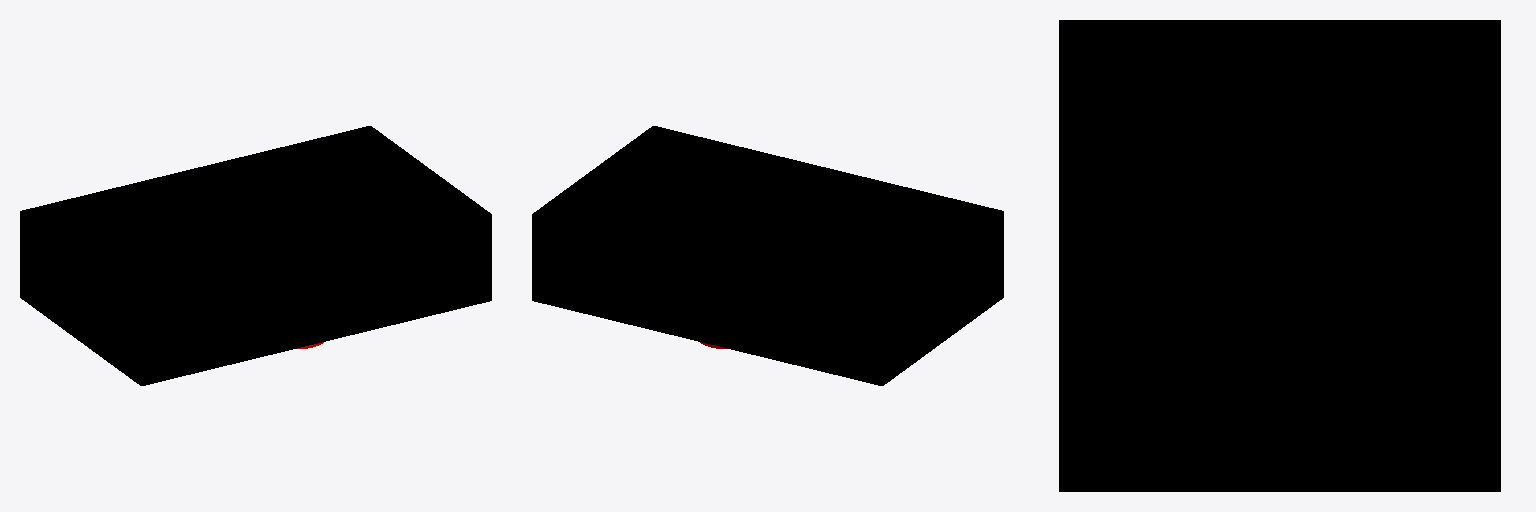
URDF robot description (AGV):
<robot name="AGV">
    <link name="base_link">
        <visual>
            <origin rpy="0 0 0" xyz="0 0 0.025"/>
            <geometry>
                <box size="0.82 .49 .195"/>
            </geometry>
            <material name="gray">
                <color rgba="0 0 0 0.6"/>
            </material>
        </visual>
    </link>

    <link name="wheel_left">
        <visual>
	    <origin rpy="1.57079633 0 0" xyz="0 0 0"/>
            <geometry>
                <cylinder length="0.04" radius="0.1"/>
            </geometry>
            <material name="black">
                <color rgba="1 0 0 1"/>
            </material>
        </visual>
    </link>

    <joint name="base_to_wheel_left" type="continuous">
        <parent link="base_link"/>
        <child link="wheel_left"/>
        <origin xyz="0 -0.205 0.01" rpy="0 0 0"/>
        <axis xyz="0 1 0" rpy="0 0 0"/>
    </joint>

    <link name="wheel_right">
        <visual>
            <geometry>
                <cylinder length="0.04" radius="0.1"/>
            </geometry>
            <origin rpy="1.57079633 0 0" xyz="0 0 0"/>
            <material name="black"/>
        </visual>
    </link>

    <joint name="base_to_wheel_right" type="continuous">
        <parent link="base_link"/>
        <child link="wheel_right"/>     
        <origin xyz="0 0.205 0.01" rpy="0 0 0"/>
        <axis xyz="0 1 0" rpy="0 0 0"/>
    </joint>
  </robot>

--- Facts derived from the render (not from the file) ---
Views: 3 orthographic renders of the robot side by side, from view 1: azimuth 30°, elevation 25°; view 2: azimuth 150°, elevation 25°; view 3: azimuth 270°, elevation 25°.
Model AGV with 3 links and 2 joints (2 continuous), rooted at base_link, posed all joints at 0.
Visible links, largest first — view 1: base_link; view 2: base_link; view 3: base_link.
Boxes of the visible links, x1,y1,x2,y2 form: base_link: [20, 126, 491, 385]; base_link: [532, 126, 1003, 385]; base_link: [1059, 20, 1500, 491].
Size in the robot's own frame: 0.82 by 0.49 by 0.2125 metres.
Geometry: primitives only (box / cylinder / sphere), no mesh files.
